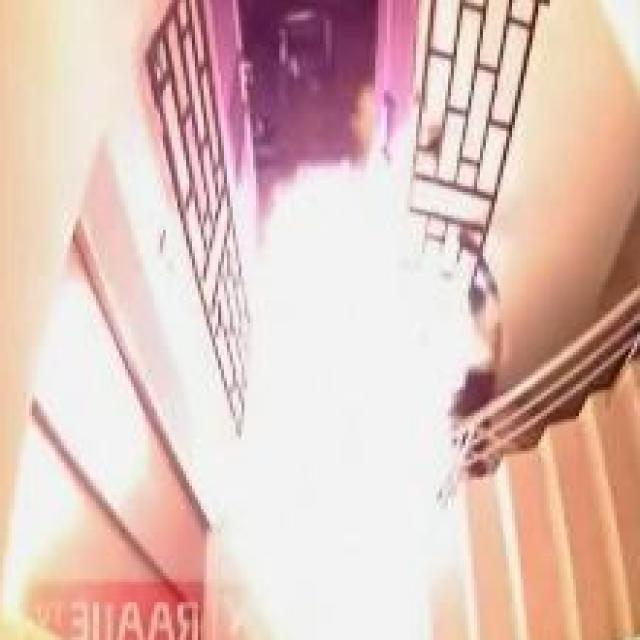smoke: (225, 110, 489, 640)
